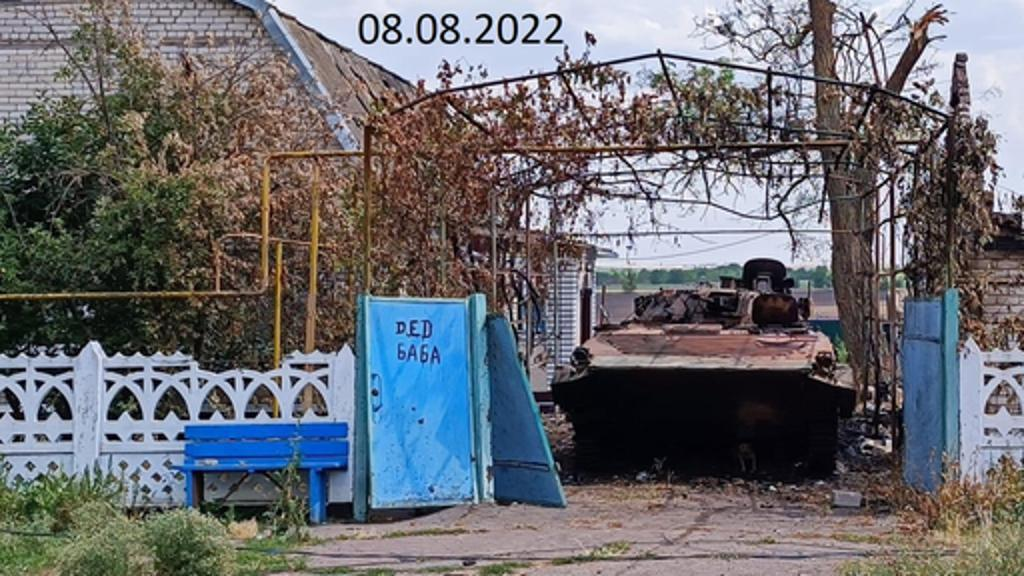APC-IFV: (542, 258, 854, 482)
